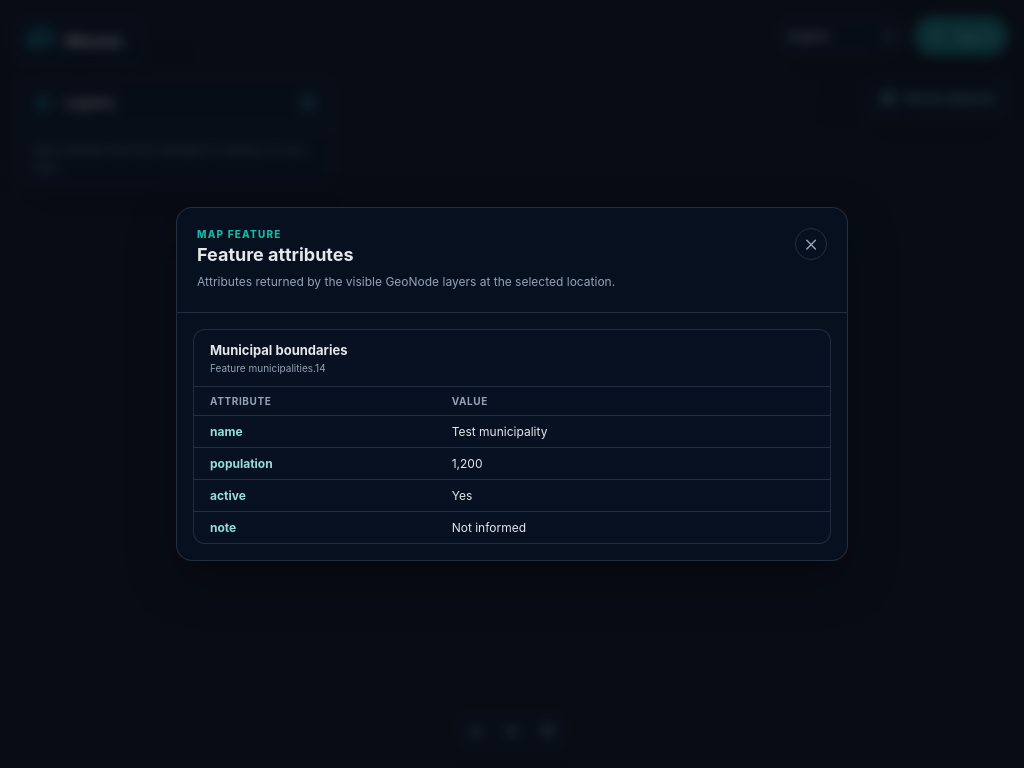
Test case: App › shows attributes returned for a clicked map feature
The width and height of the screenshot is (1024, 768).
Expected: the button with aria-label "User account" is enabled, [914,16,1008,56]
Expected: the heading "Municipal boundaries" is shown, [210,342,348,358]
Click the button named "Close feature attributes". click: {"x": 811, "y": 244}
box: [795,228,827,260]
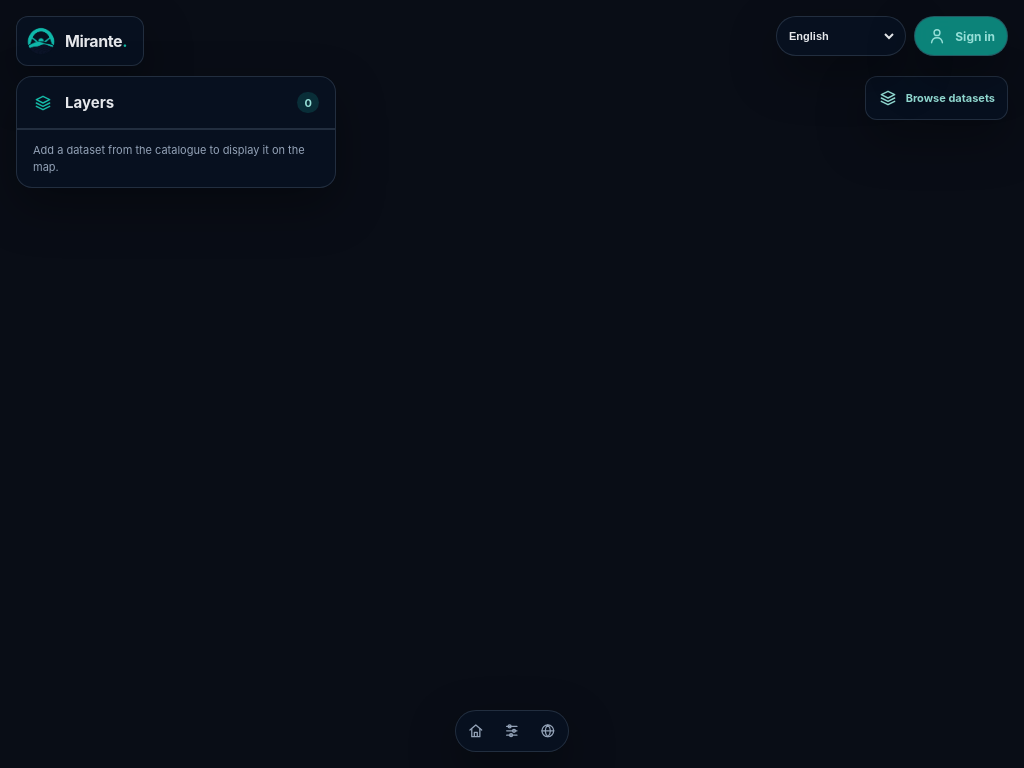
Expected: the heading "Feature attributes" is gone
